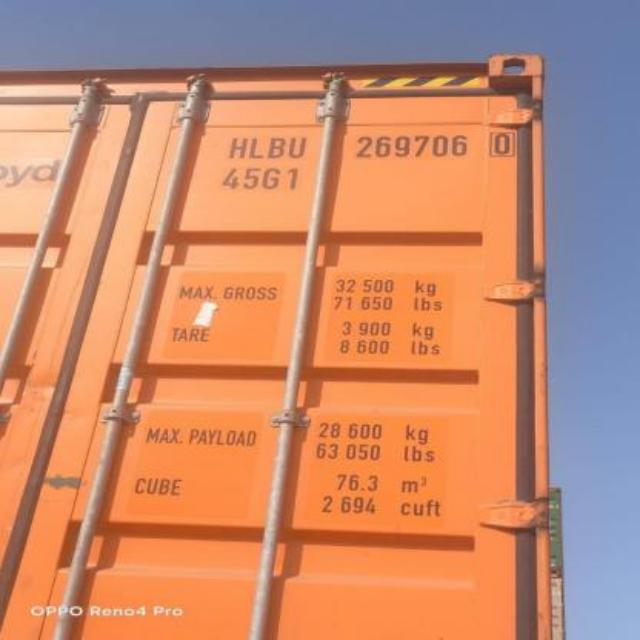0: (489, 130, 516, 156), (432, 129, 448, 159)
2: (357, 130, 373, 163)
6: (448, 129, 468, 165), (374, 129, 390, 161)
7: (414, 128, 430, 162)
9: (393, 128, 411, 162)
B: (267, 132, 285, 162)
H: (229, 128, 247, 162)
L: (248, 130, 264, 160)
U: (289, 132, 307, 160)
